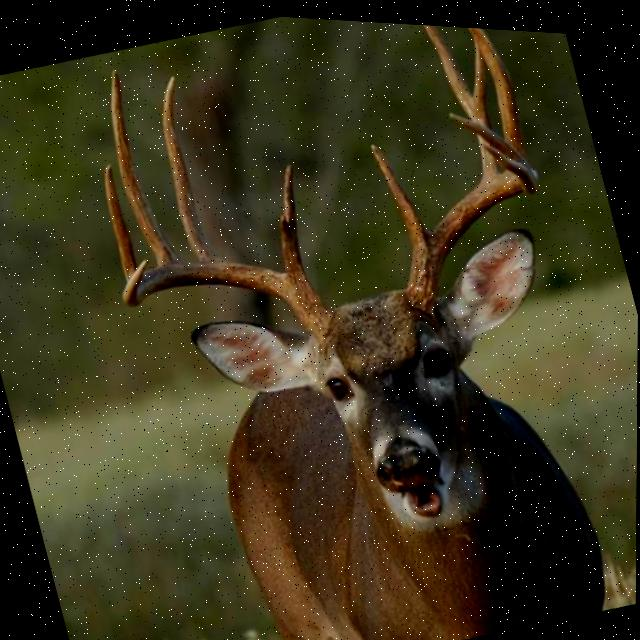L-F: (407, 134, 540, 301)
L-G1: (369, 138, 430, 243)
R-F: (121, 256, 331, 329)
R-G1: (279, 159, 307, 274)
R-G2: (160, 73, 219, 259)
R-G3: (109, 67, 179, 262)
